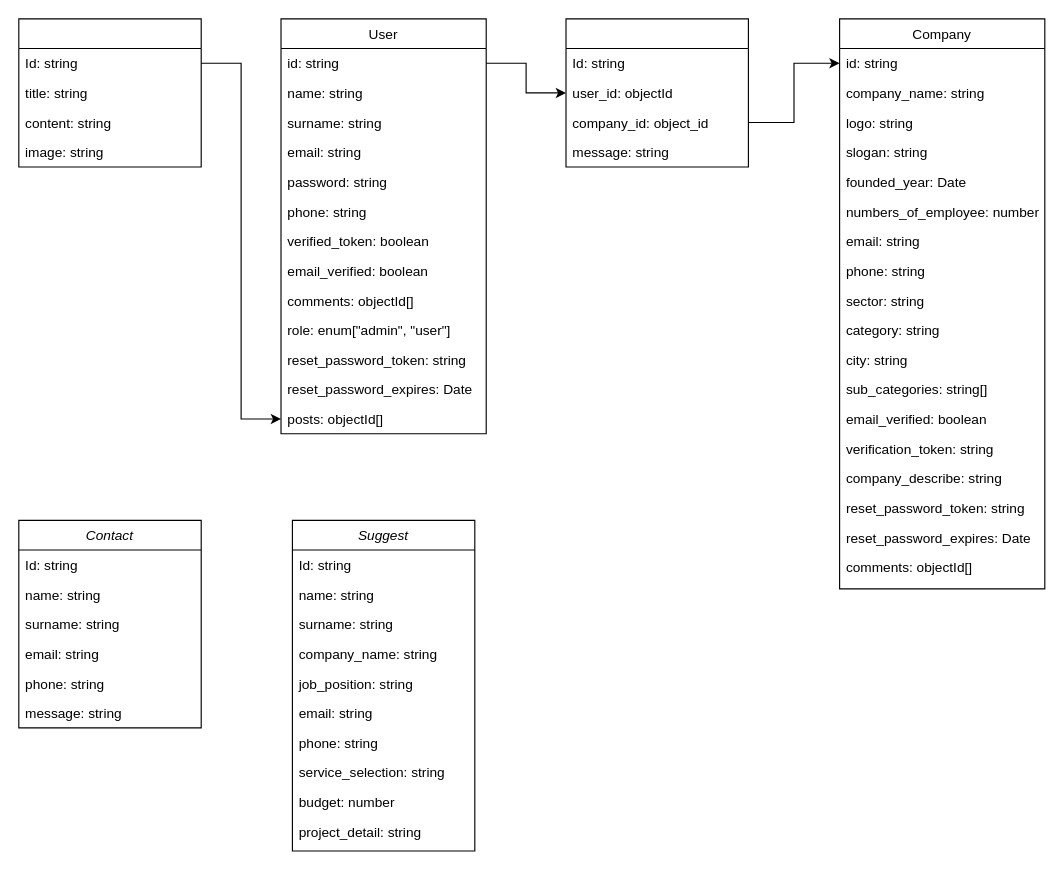
Some shapes in this 1064 by 870 pixel diagram are drawn without their labels. Each missing label, with the box of its shape:
Blog: (18, 18, 201, 167)
Review: (565, 18, 748, 167)
